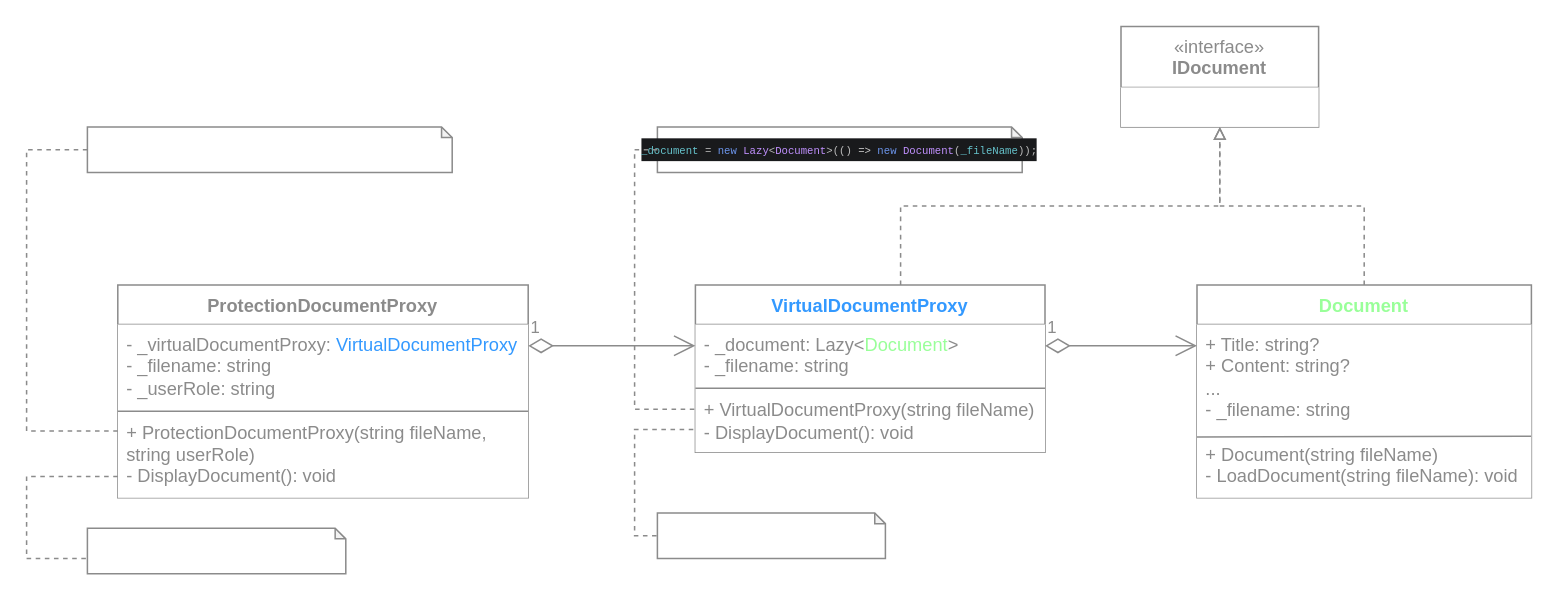
This 1560x606 diagram has some shape labels left out. Each missing label, with the centre of its shape:
+ DisplayDocument();: the point at 1219,106
_document . Value . DisplayDocument ();: the point at 770,535
_virtualDocumentProxy . DisplayDocument ();: the point at 216,550
_virtualDocumentProxy = new VirtualDocumentProxy ( _fileName );: the point at 269,149
